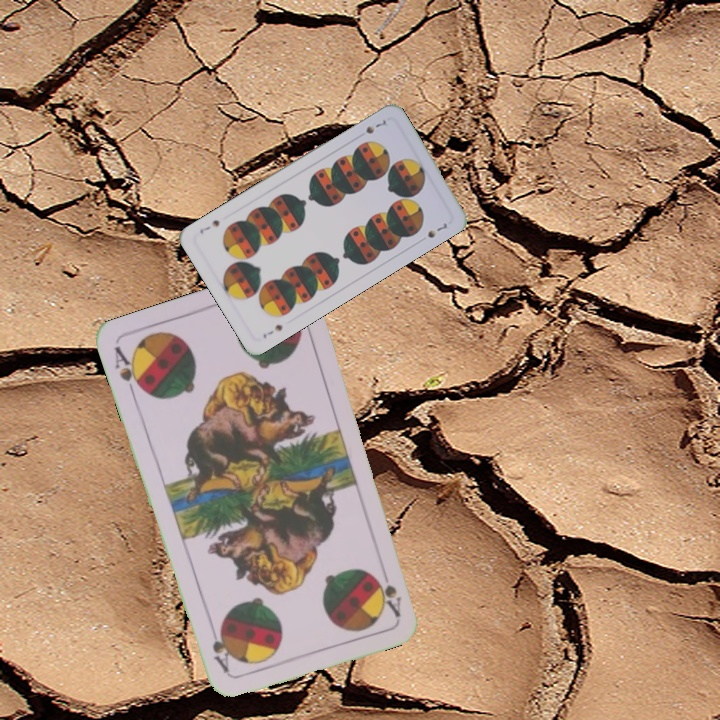S7: (362, 116, 389, 137), (259, 320, 285, 341)
SA: (110, 343, 147, 401), (378, 561, 404, 619)
